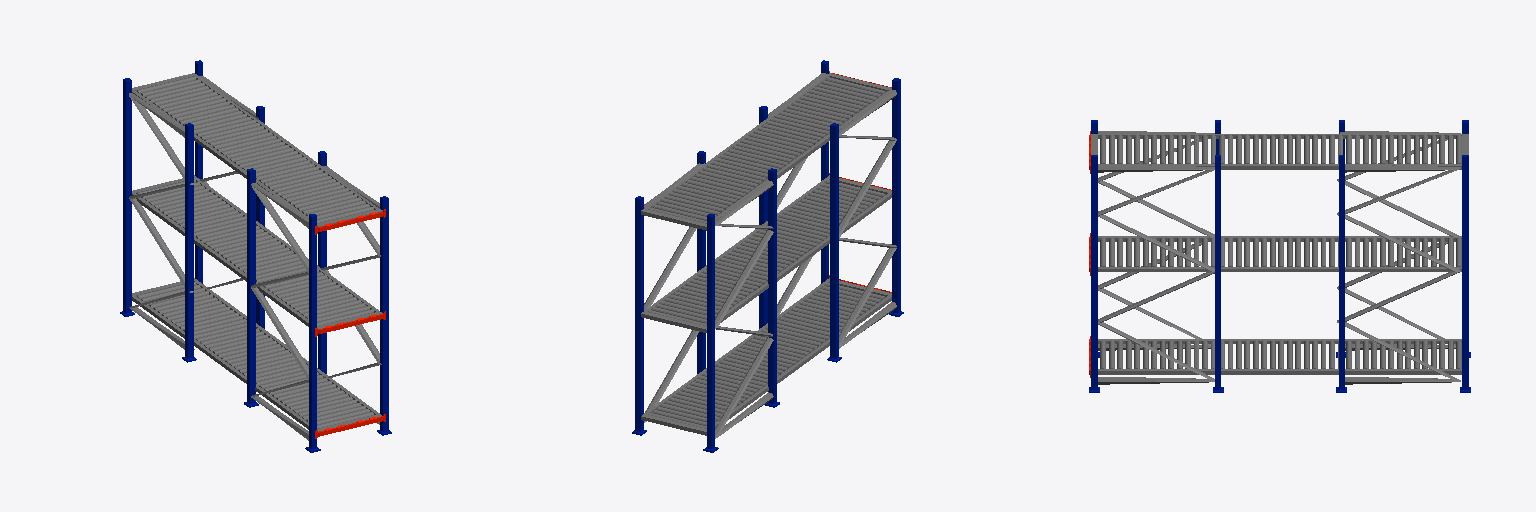
The model's file is noguer.obj.
3 renders of one model, left to right at view 1: azimuth 30°, elevation 25°; view 2: azimuth 150°, elevation 25°; view 3: azimuth 270°, elevation 25°, orthographic.
Parts seen in each view (by area): view 1: Cylinder, Cube.001, Plane.003, Plane.002, Plane.001; view 2: Cylinder, Cube.001, Plane.003, Plane.002; view 3: Cylinder, Plane.003, Plane.002, Cube.001.
Part boxes in pixels (left/top/right/bottom): Cylinder: left=136, top=76, right=373, bottom=428; Cube.001: left=120, top=60, right=391, bottom=452; Plane.003: left=129, top=76, right=381, bottom=440; Plane.002: left=132, top=73, right=382, bottom=431; Plane.001: left=315, top=209, right=385, bottom=438; Cylinder: left=649, top=77, right=885, bottom=428; Cube.001: left=632, top=60, right=903, bottom=452; Plane.003: left=644, top=73, right=896, bottom=438; Plane.002: left=641, top=73, right=891, bottom=435; Cylinder: left=1100, top=135, right=1461, bottom=368; Plane.003: left=1098, top=131, right=1460, bottom=384; Plane.002: left=1091, top=134, right=1468, bottom=374; Cube.001: left=1089, top=120, right=1470, bottom=392.
Bounding box in the file's own units: 1.13 × 3.13 × 4.62.